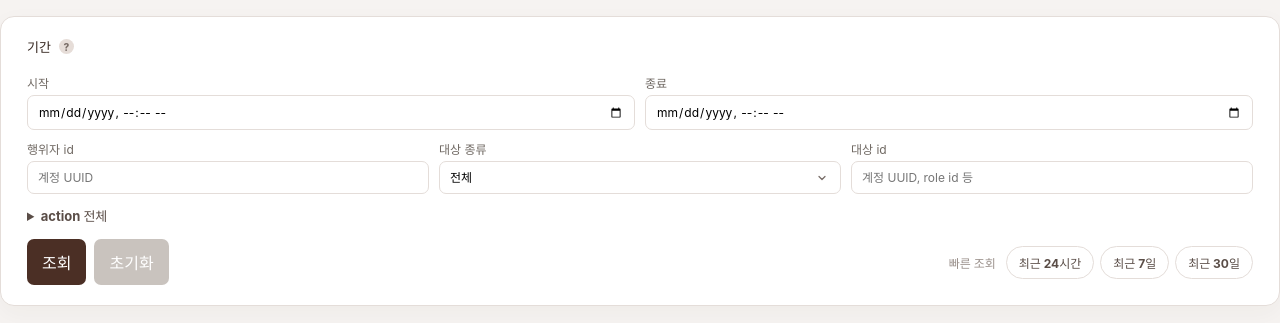
Scenario: AuditFilters › 초기화하면 모든 입력을 비우고 필터 없이 다시 조회한다
Type "0199a3b0-2c7d-7e41-a5f8-3b0c9d6e1f24" into the field labelled "행위자 id" at coordinates (228, 178), box [27,161,429,194]
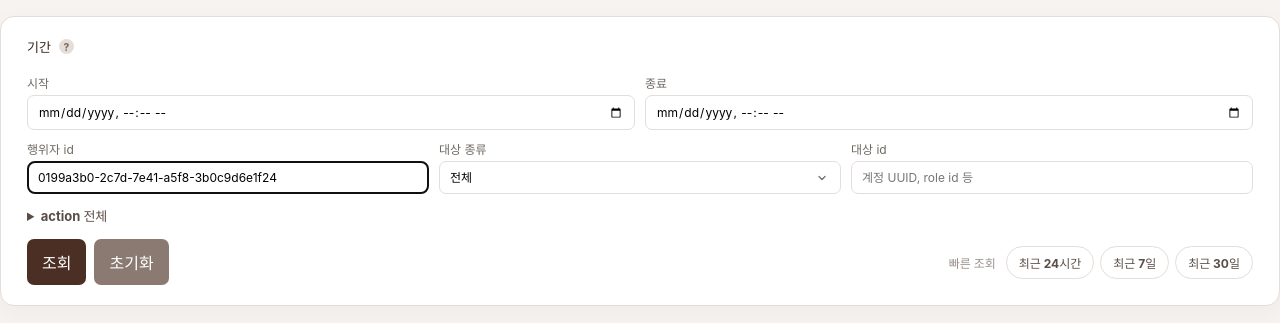
Select "role" in the dropdown labelled "대상 종류" at coordinates (640, 178), box [439,161,841,194]
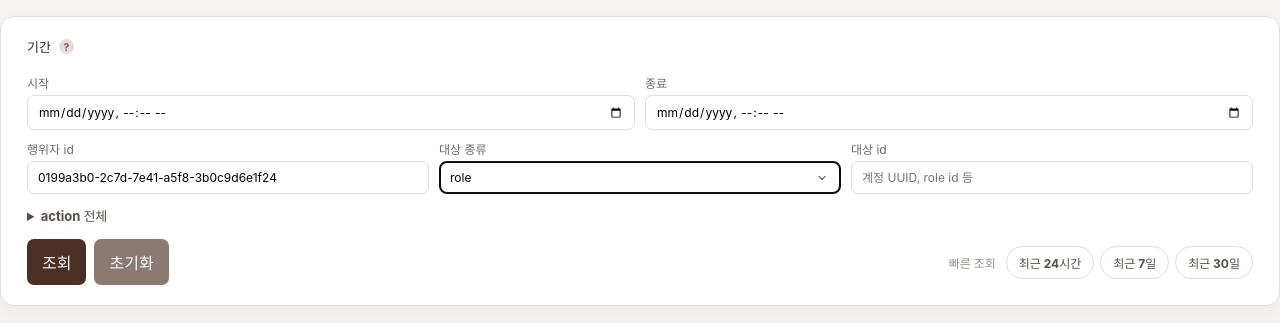
Click the button "최근 7일" at coordinates (1135, 262), box [1100,246,1169,278]
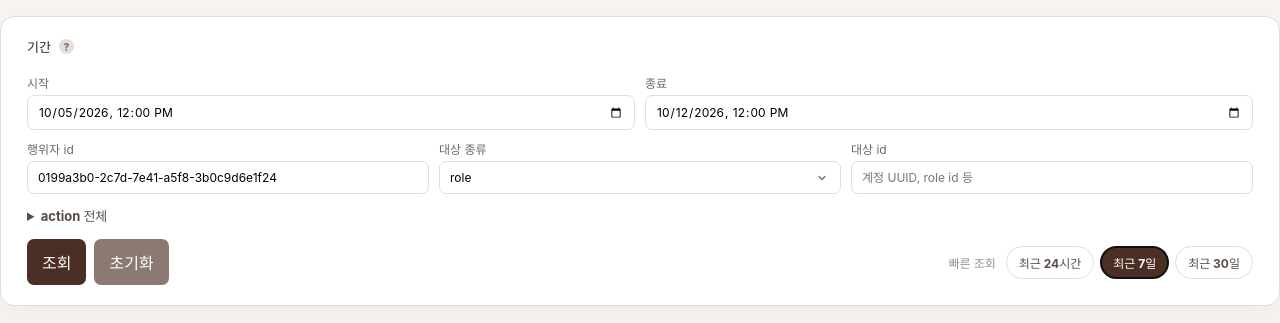
Click the button "초기화" at coordinates (132, 262), box [94,239,169,285]
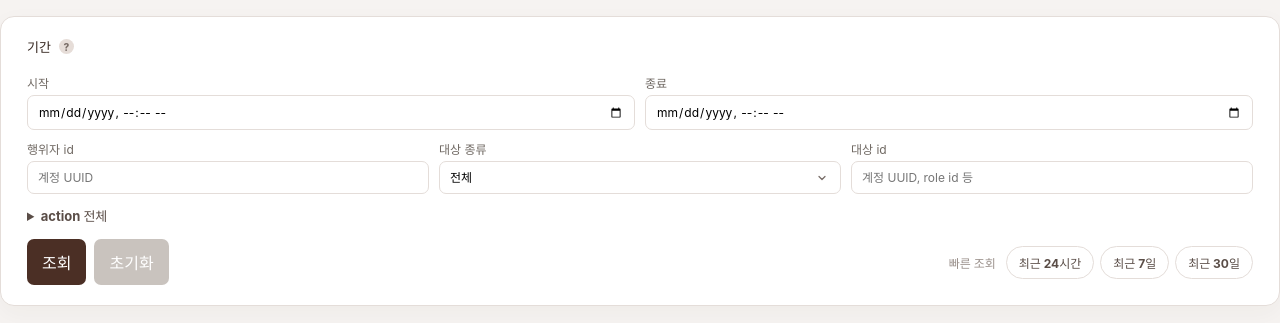
Expected: the field labelled "행위자 id" is empty, [27,161,429,194]
Expected: the field labelled "시작" is empty, [27,95,635,130]
Expected: the button "초기화" is disabled, [94,239,169,285]
